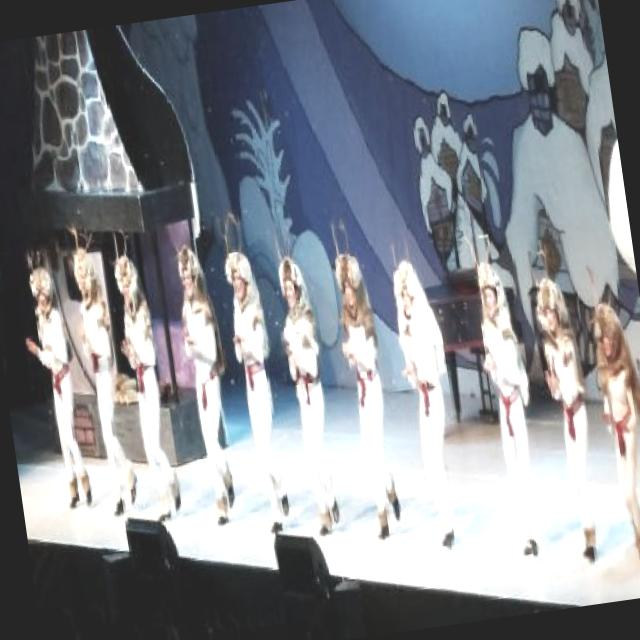Person: (382, 232, 472, 554), (215, 210, 296, 540), (478, 248, 558, 564), (103, 223, 186, 524), (266, 216, 344, 536), (65, 219, 143, 522), (332, 218, 403, 546), (171, 240, 250, 529), (14, 246, 96, 514), (531, 274, 607, 561), (581, 255, 640, 564)
